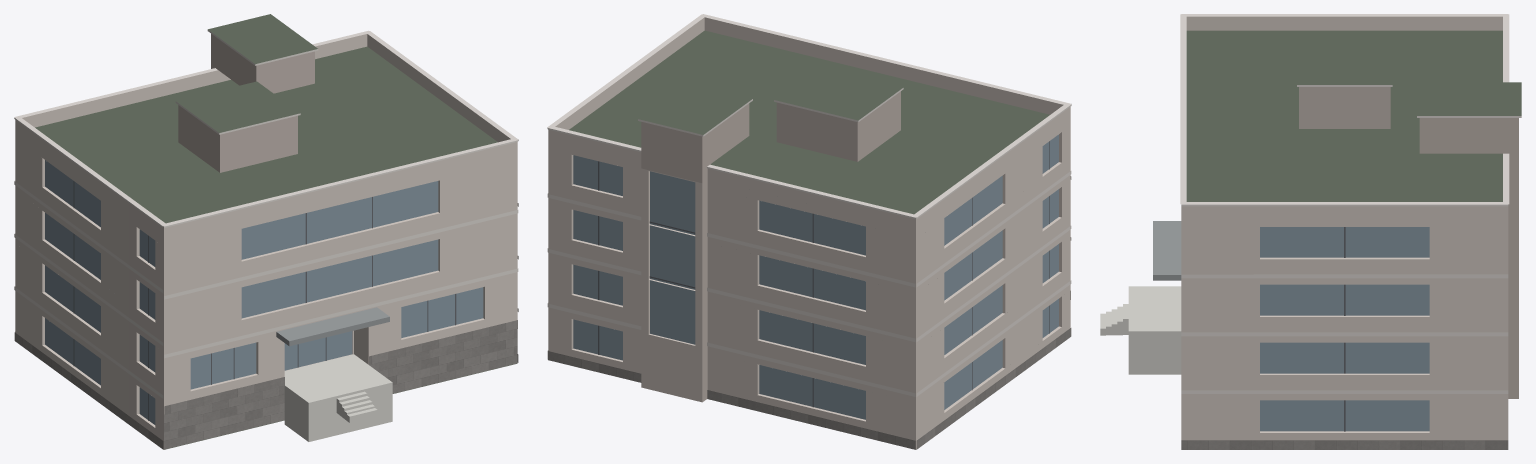
The picture shows the model from 3 angles, left to right: view 1: azimuth 30°, elevation 25°; view 2: azimuth 150°, elevation 25°; view 3: azimuth 270°, elevation 25°; orthographic projection. The views are drawn at different scales.
Visible parts, largest first — view 1: b919D__wall, b919D__roof, b919D__glass, b919D__base, b919D__parapet, b919D__trim, b919D__wall2, b919D__entranceStair, b919D__canopy, b919D__frame; view 2: b919D__wall, b919D__roof, b919D__glass, b919D__parapet, b919D__trim, b919D__wall2, b919D__base, b919D__frame; view 3: b919D__wall, b919D__roof, b919D__glass, b919D__wall2, b919D__trim, b919D__parapet, b919D__entranceStair, b919D__base, b919D__canopy.
Part boxes in pixels (left/top/right/bottom): b919D__wall: left=15, top=130, right=517, bottom=449; b919D__roof: left=35, top=14, right=516, bottom=449; b919D__glass: left=45, top=160, right=483, bottom=424; b919D__base: left=14, top=320, right=518, bottom=449; b919D__parapet: left=15, top=34, right=517, bottom=238; b919D__trim: left=14, top=29, right=518, bottom=398; b919D__wall2: left=178, top=34, right=314, bottom=172; b919D__entranceStair: left=284, top=354, right=392, bottom=441; b919D__canopy: left=276, top=307, right=389, bottom=346; b919D__frame: left=73, top=181, right=456, bottom=420; b919D__wall: left=548, top=117, right=1070, bottom=449; b919D__roof: left=569, top=30, right=1049, bottom=449; b919D__glass: left=573, top=134, right=1058, bottom=419; b919D__parapet: left=548, top=17, right=1070, bottom=230; b919D__trim: left=547, top=14, right=1071, bottom=396; b919D__wall2: left=641, top=91, right=900, bottom=402; b919D__base: left=547, top=291, right=1071, bottom=449; b919D__frame: left=598, top=141, right=1049, bottom=407; b919D__wall: left=1181, top=218, right=1508, bottom=440; b919D__roof: left=1186, top=30, right=1521, bottom=201; b919D__glass: left=1260, top=227, right=1429, bottom=431; b919D__wall2: left=1299, top=87, right=1518, bottom=398; b919D__trim: left=1180, top=14, right=1521, bottom=393; b919D__parapet: left=1181, top=16, right=1508, bottom=217; b919D__entranceStair: left=1100, top=286, right=1181, bottom=374; b919D__base: left=1181, top=440, right=1508, bottom=449; b919D__canopy: left=1153, top=221, right=1181, bottom=280.
Size of the model in its own units: 25.43 by 17.97 by 23.74.
11 materials, 1 textured.
